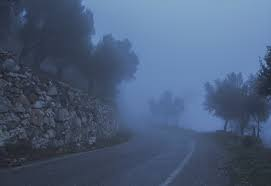strada: (9, 135, 255, 185)
